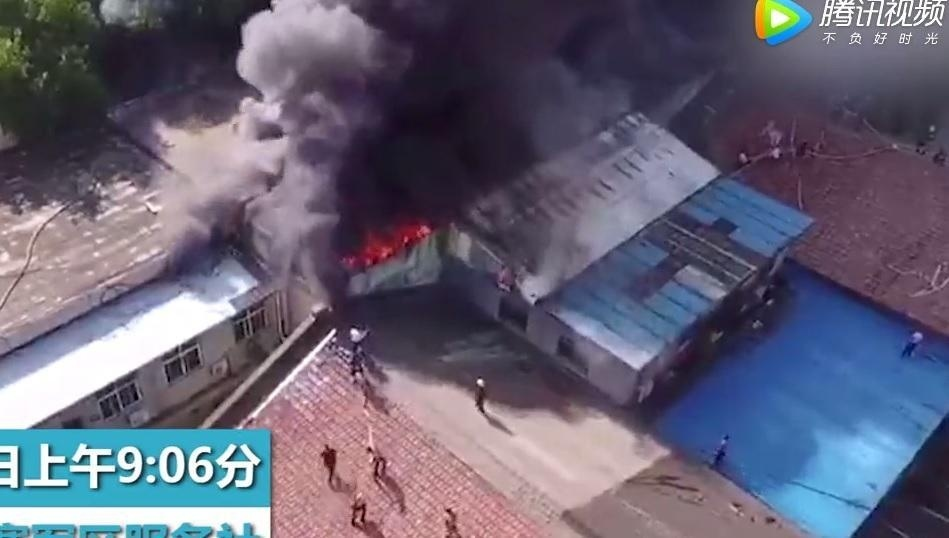fire: (347, 217, 428, 263)
